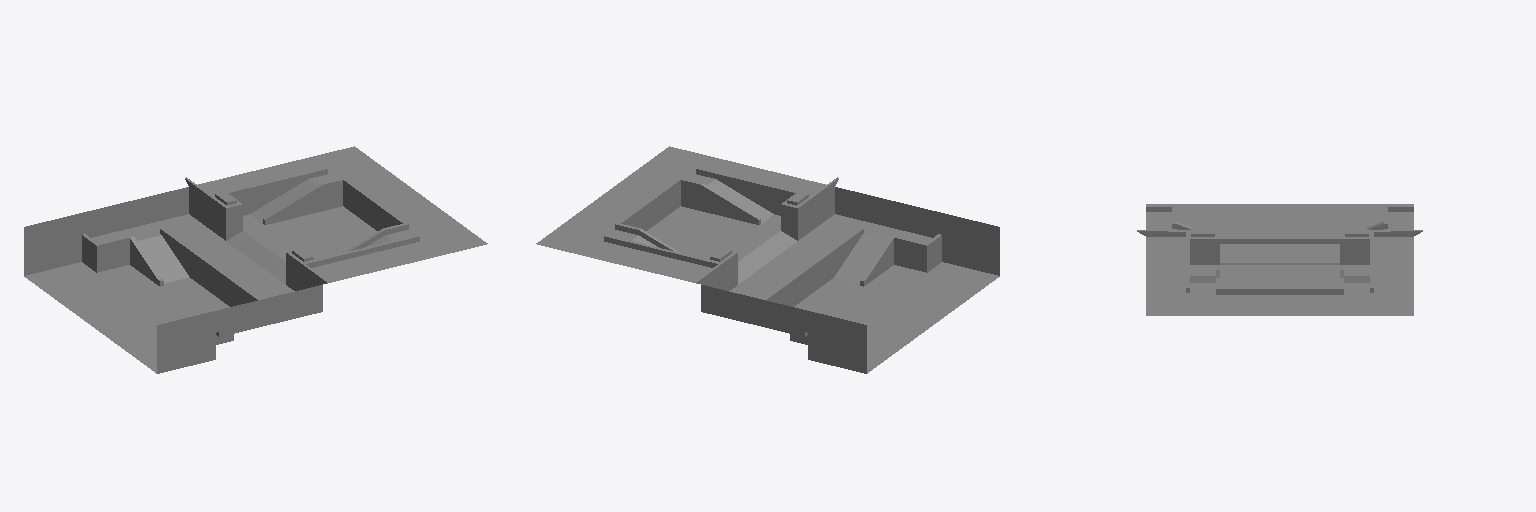
File: Innenhof.obj
3 renders of one model, left to right at view 1: azimuth 30°, elevation 25°; view 2: azimuth 150°, elevation 25°; view 3: azimuth 270°, elevation 25°, orthographic.
Visible parts, largest first — view 1: Test_Innenhof; view 2: Test_Innenhof; view 3: Test_Innenhof.
Part boxes in pixels (x1,y1,x2,y2): Test_Innenhof: (24,146,487,373); Test_Innenhof: (536,146,999,373); Test_Innenhof: (1137,204,1422,315).
Size of the model in its own units: 68.69 by 11.39 by 51.43.